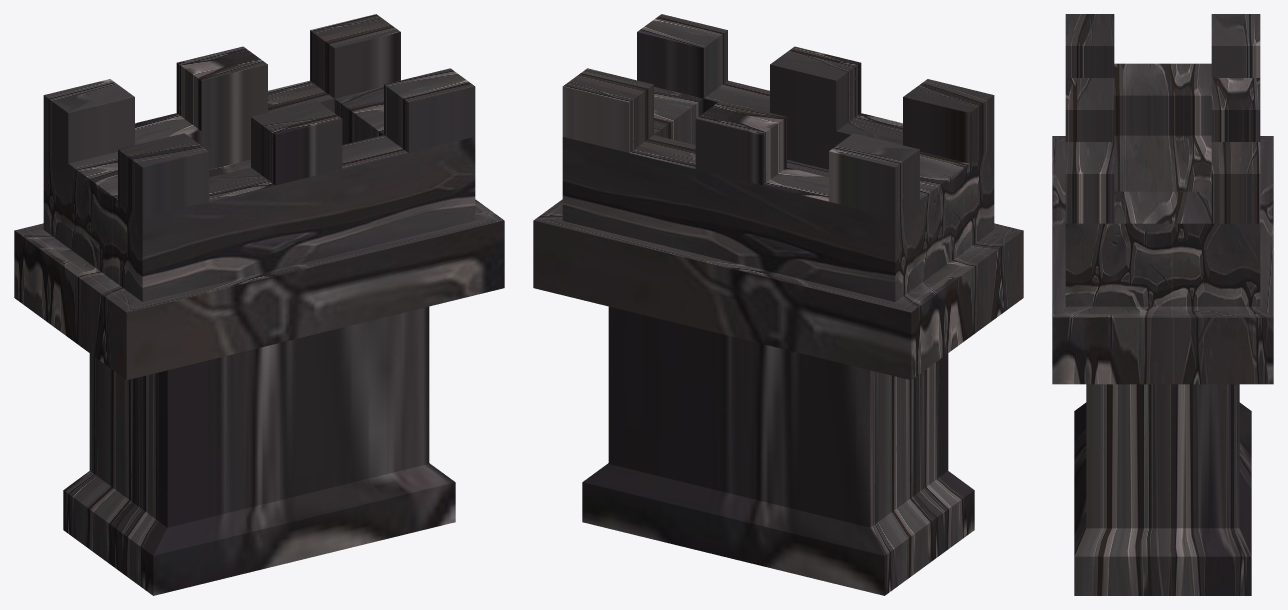
Rendered from field_wall.FBX.
The picture shows the model from 3 angles, left to right: view 1: azimuth 30°, elevation 25°; view 2: azimuth 150°, elevation 25°; view 3: azimuth 270°, elevation 25°; orthographic projection.
Visible parts, largest first — view 1: Well_01_004; view 2: Well_01_004; view 3: Well_01_004.
Boxes of the visible parts, x1=… form: Well_01_004: x1=14, y1=14, x2=504, y2=595; Well_01_004: x1=533, y1=14, x2=1023, y2=595; Well_01_004: x1=1052, y1=14, x2=1273, y2=595.
Bounding box in the file's own units: 1.01 × 1.11 × 0.5179.
